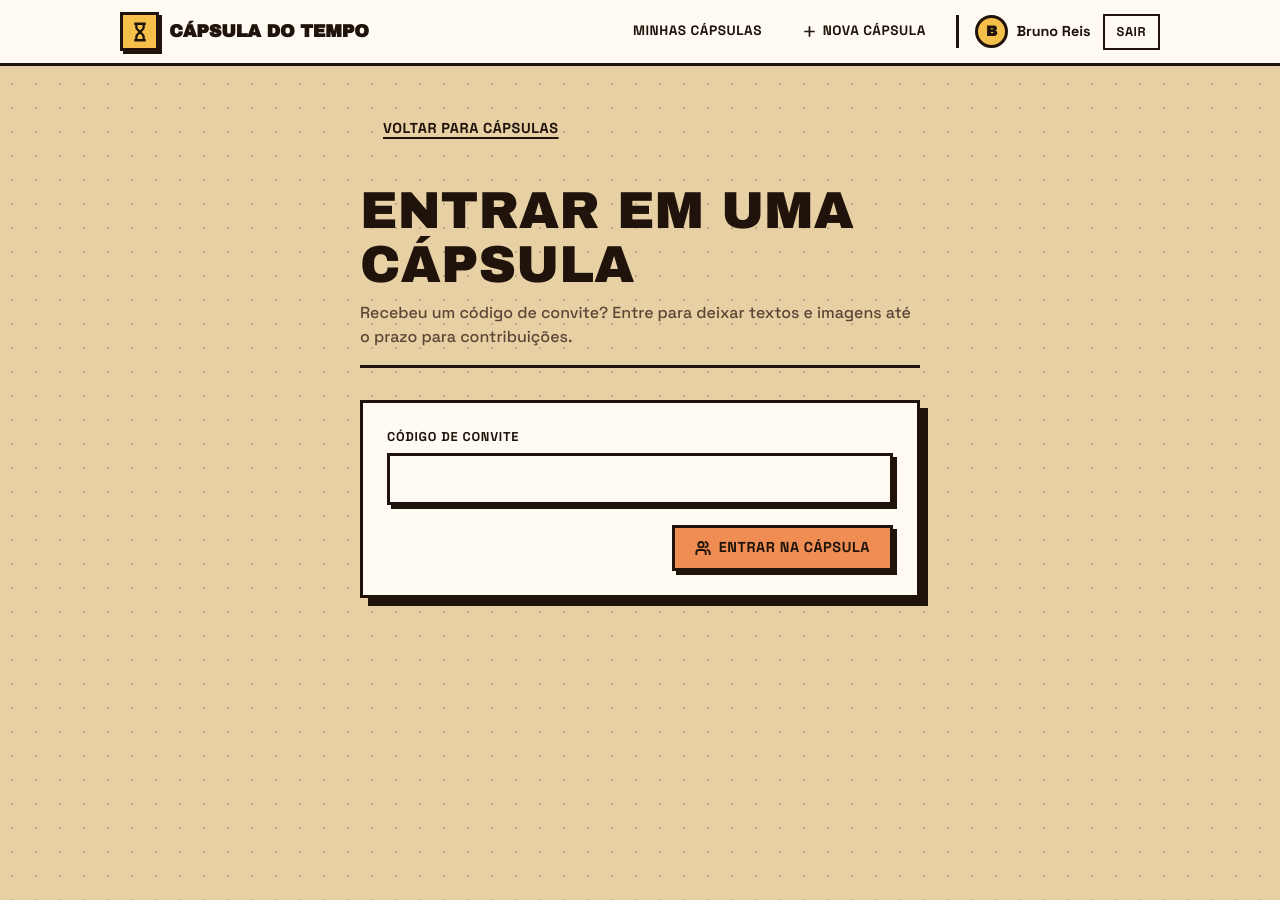
it: EntrarCapsulaPage (/capsulas/entrar) › form validation › clears the error when the code is edited
Click the button "Entrar na cápsula" at (782, 548), box x1=672 y1=525 x2=893 y2=571
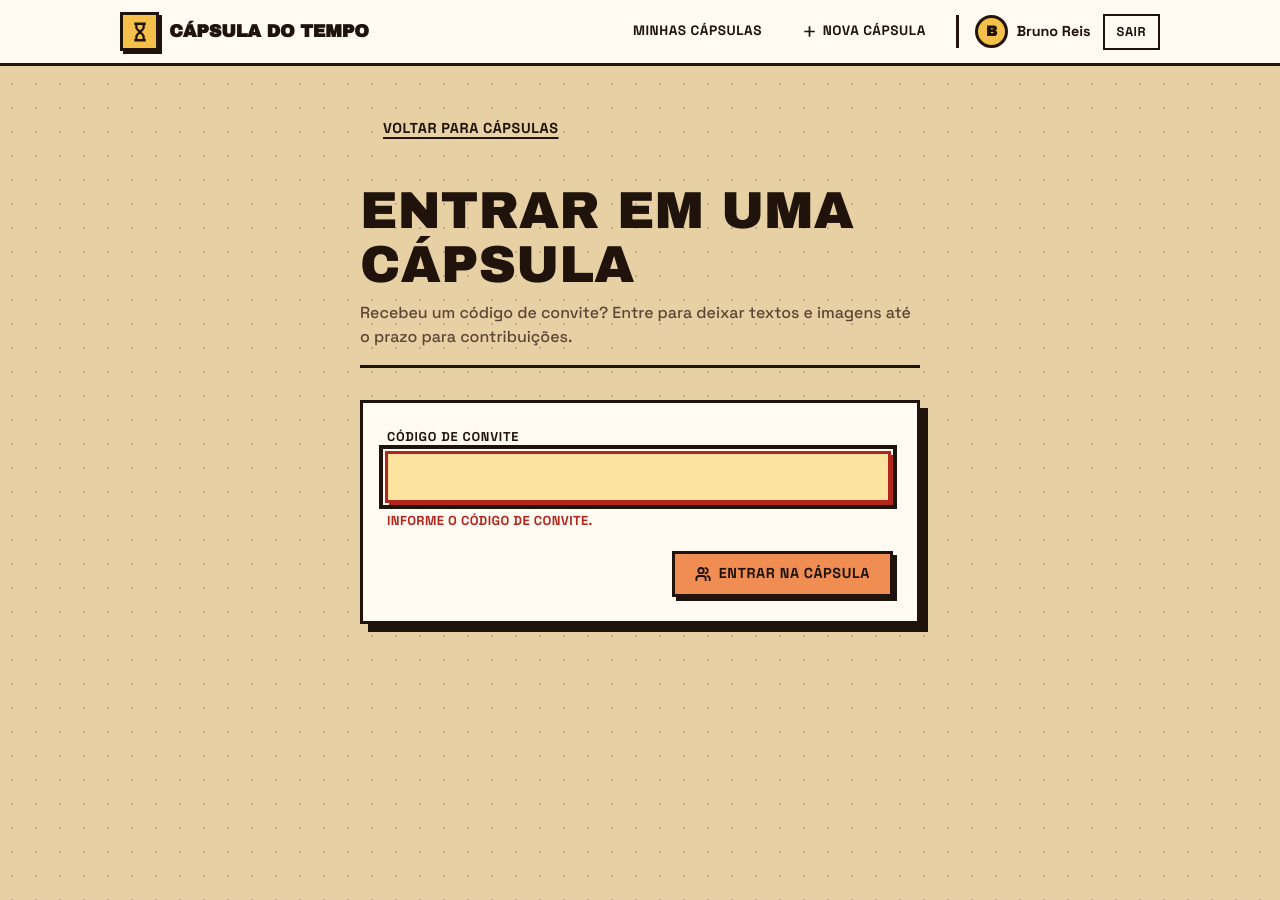
Type "A" into the field labelled "Código de convite" at (638, 477), box x1=385 y1=451 x2=891 y2=503
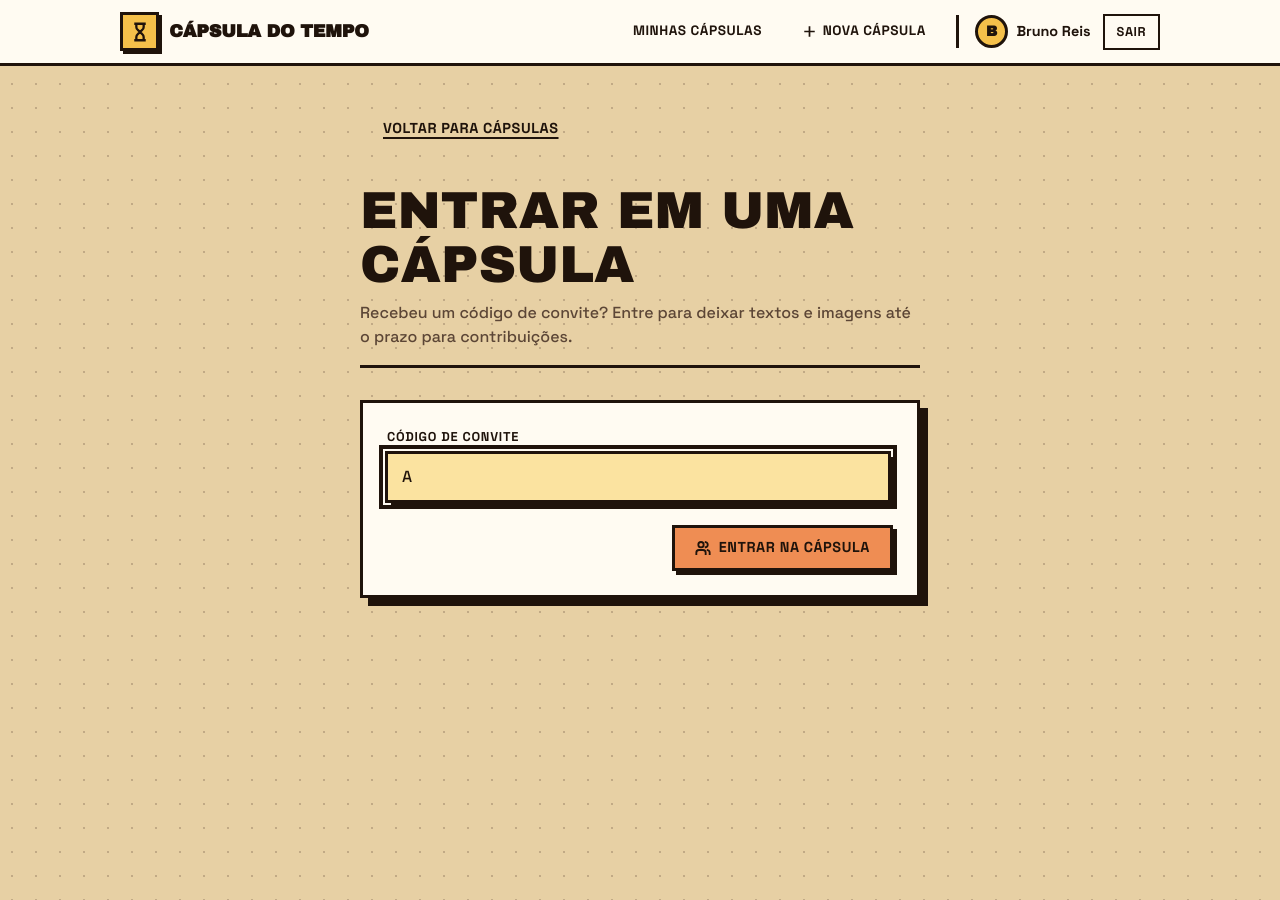
Expected: the text "Informe o código de convite." is gone
